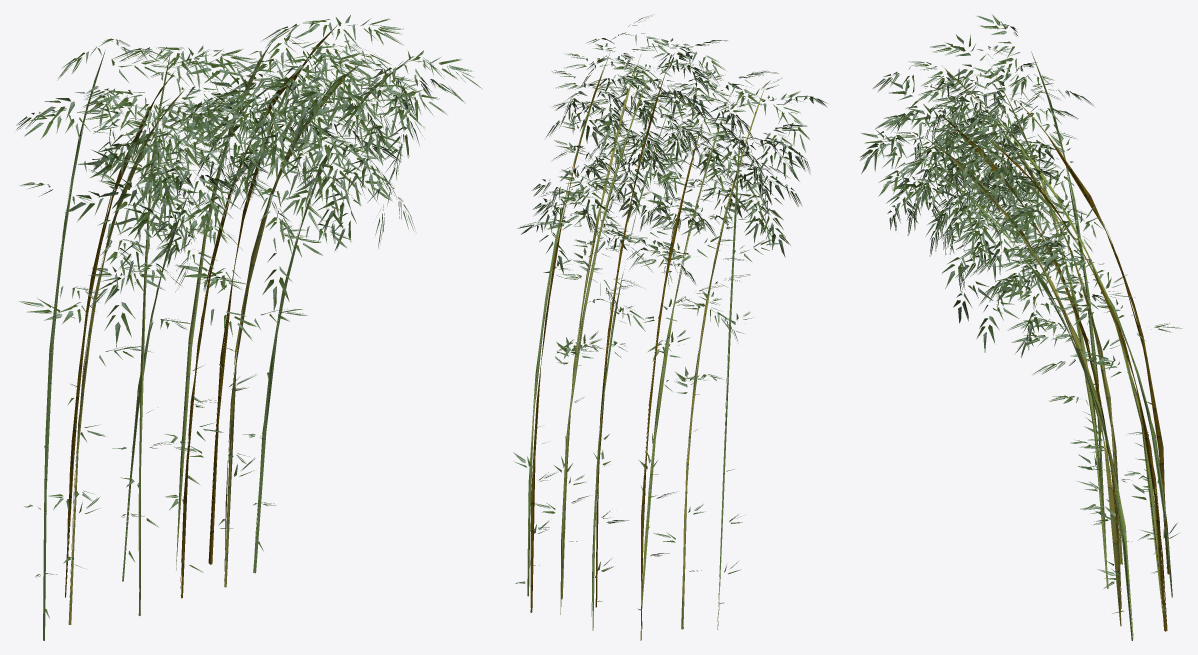
File: bamboo_clump_01.glb
3 renders of one model, left to right at view 1: azimuth 30°, elevation 25°; view 2: azimuth 150°, elevation 25°; view 3: azimuth 270°, elevation 25°, orthographic. The views are drawn at different scales.
Visible parts, largest first — view 1: bamboo_clump_01; view 2: bamboo_clump_01; view 3: bamboo_clump_01.
Part boxes in pixels (x1,y1,x2,y2): bamboo_clump_01: (16, 15, 482, 640); bamboo_clump_01: (513, 15, 827, 640); bamboo_clump_01: (860, 14, 1182, 640).
Size of the model in its own units: 6.56 by 11.01 by 6.09.
Materials: 2 (2 with a texture image).
